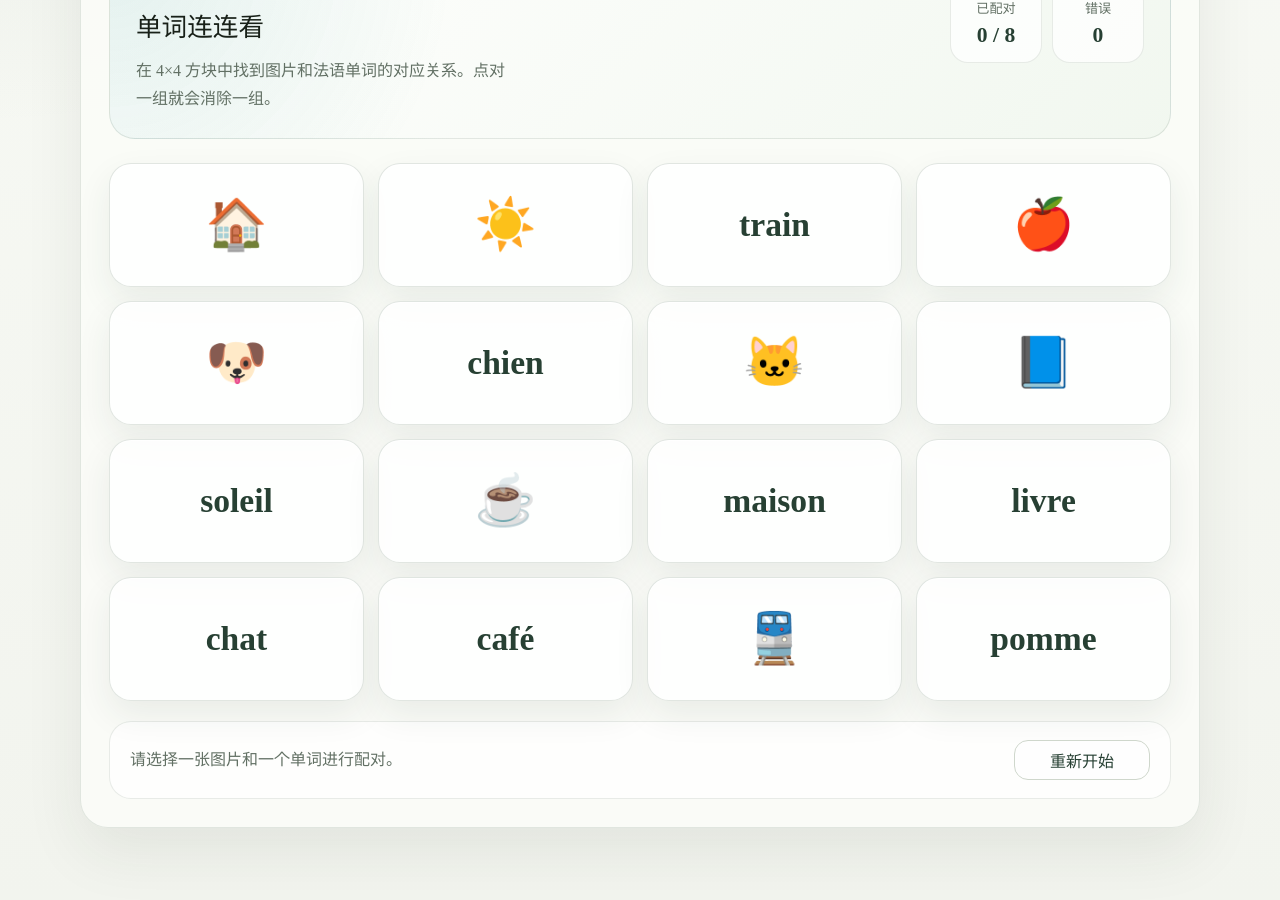
Scenario: WordMatchPage › removes a matched image and word pair
(page scrolled)
Click the button named "图片：咖啡".
click(506, 501)  # box [378,439,633,563]
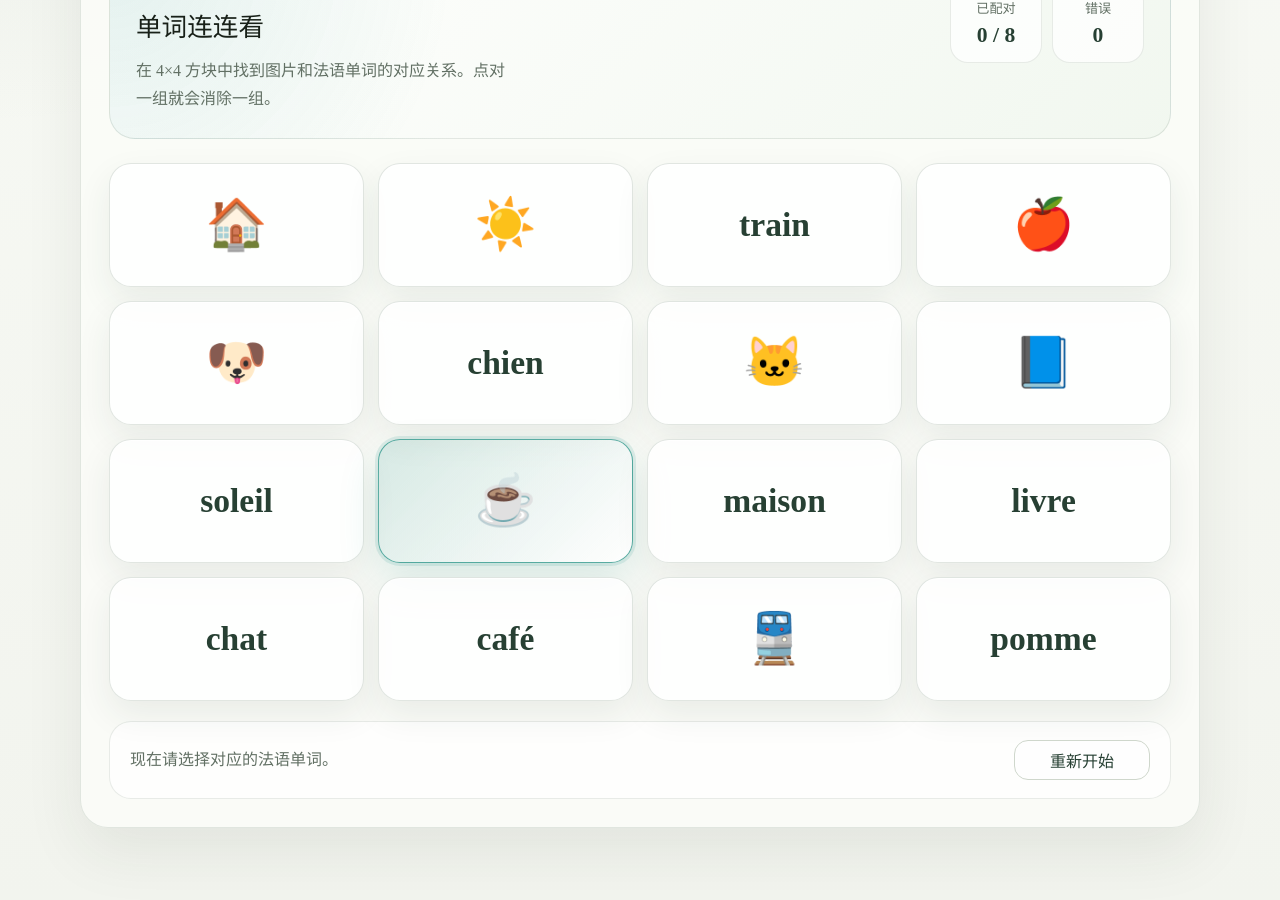
Click the button with aria-label "单词：café".
click(506, 639)  # box [378,577,633,701]
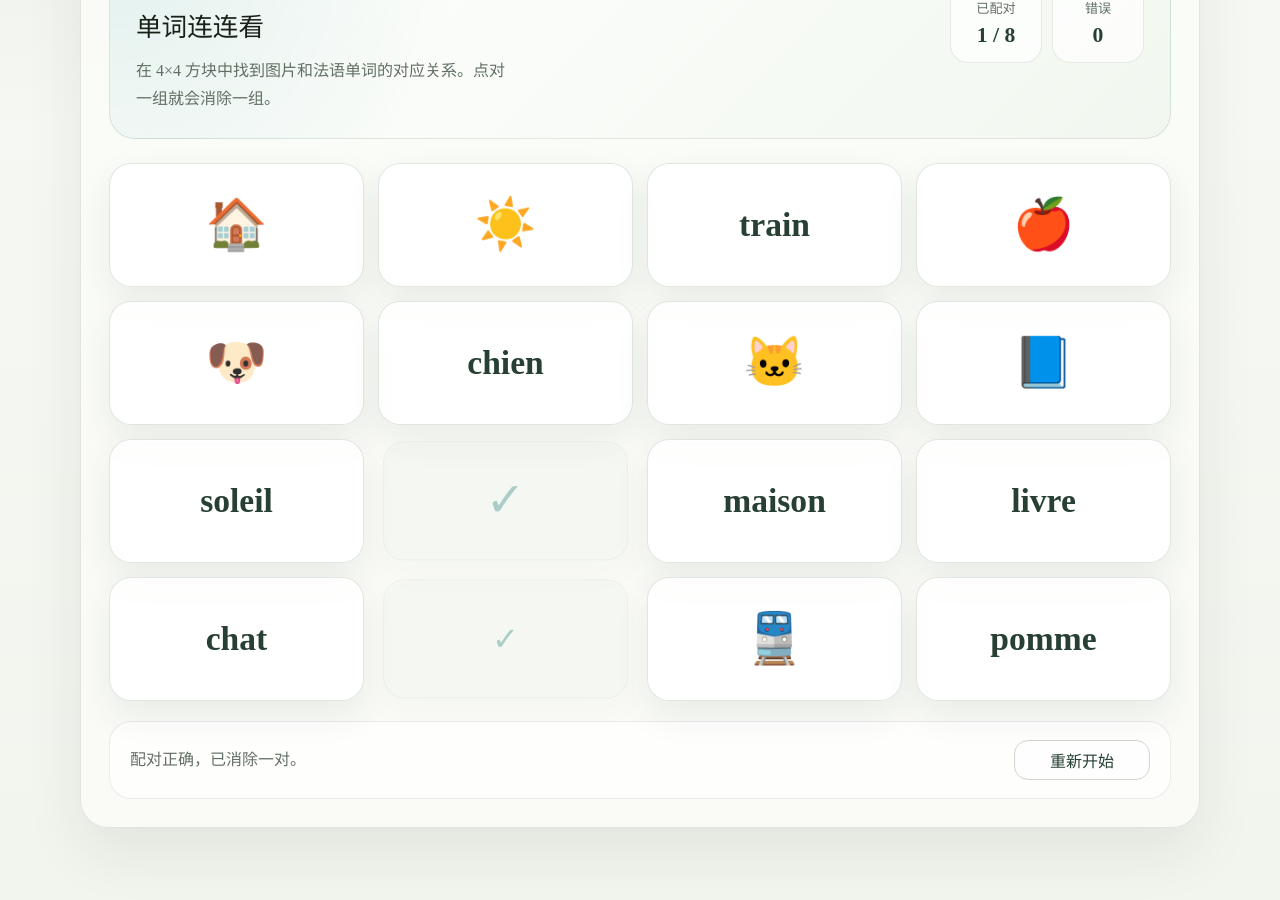
expect the text "1 / 8" is shown: met, box [977,23,1015,47]
expect the button named "已消除：图片：咖啡" is disabled: met, box [383,441,628,560]
expect the button named "已消除：单词：café" is disabled: met, box [383,579,628,698]
